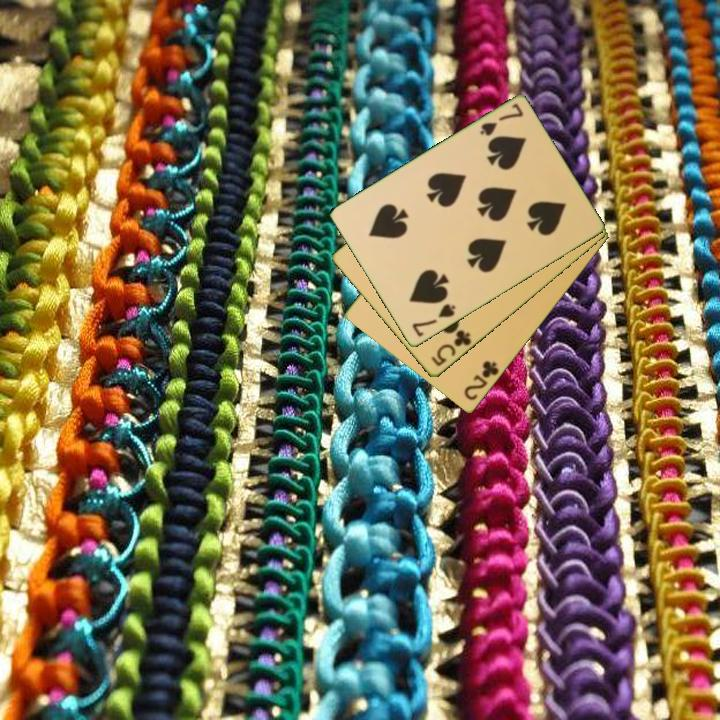2c: (460, 357, 502, 404)
5c: (428, 327, 474, 370)
7s: (408, 300, 458, 340), (476, 100, 526, 139)
